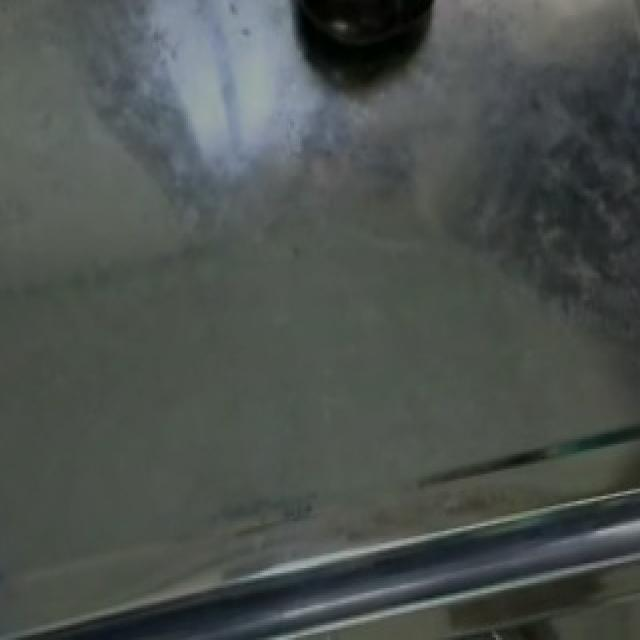Fruit: (286, 0, 448, 67)
